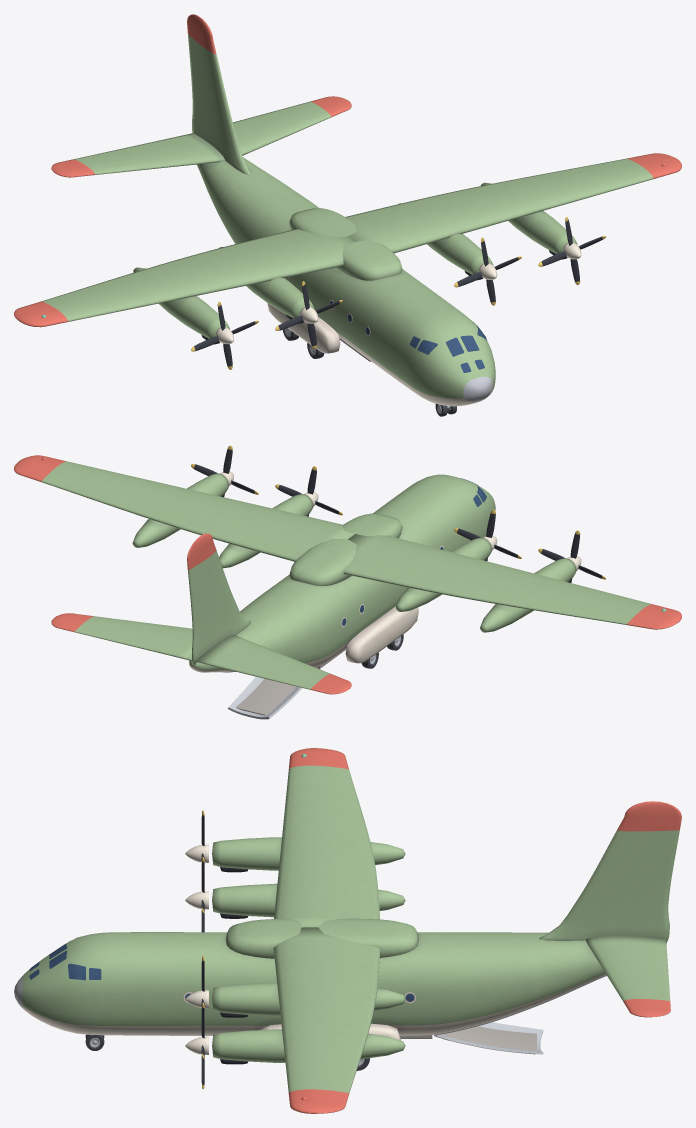
Rendered from cargo-plane-wreck.glb.
3 renders of one model, top to bottom at view 1: azimuth 30°, elevation 25°; view 2: azimuth 150°, elevation 25°; view 3: azimuth 270°, elevation 25°, orthographic. The views are drawn at different scales.
Parts seen in each view (by area): view 1: cargo-plane_body, cargo-plane_windows, cargo-plane_propeller_l1, cargo-plane_propeller_l2, cargo-plane_propeller_r2, cargo-plane_propeller_r1; view 2: cargo-plane_body, cargo-plane_cargo_ramp, cargo-plane_propeller_r2, cargo-plane_propeller_r1, cargo-plane_propeller_l1, cargo-plane_propeller_l2; view 3: cargo-plane_body, cargo-plane_cargo_ramp, cargo-plane_windows, cargo-plane_propeller_l2, cargo-plane_propeller_r1.
Part boxes in pixels (x1,y1,x2,y2): cargo-plane_body: (14, 14, 681, 408); cargo-plane_windows: (330, 301, 486, 372); cargo-plane_propeller_l1: (454, 237, 521, 305); cargo-plane_propeller_l2: (538, 217, 606, 284); cargo-plane_propeller_r2: (191, 301, 258, 369); cargo-plane_propeller_r1: (275, 281, 342, 349); cargo-plane_body: (14, 455, 681, 694); cargo-plane_cargo_ramp: (228, 668, 317, 719); cargo-plane_propeller_r2: (538, 530, 606, 582); cargo-plane_propeller_r1: (454, 509, 521, 561); cargo-plane_propeller_l1: (275, 466, 342, 516); cargo-plane_propeller_l2: (191, 445, 258, 497); cargo-plane_body: (14, 748, 681, 1113); cargo-plane_cargo_ramp: (434, 1022, 543, 1054); cargo-plane_windows: (29, 941, 414, 1001); cargo-plane_propeller_l2: (185, 1002, 208, 1089); cargo-plane_propeller_r1: (185, 857, 208, 932).
Bounding box in the file's own units: 38.35 × 12.08 × 29.68.
Materials: 40 (1 with a texture image).
